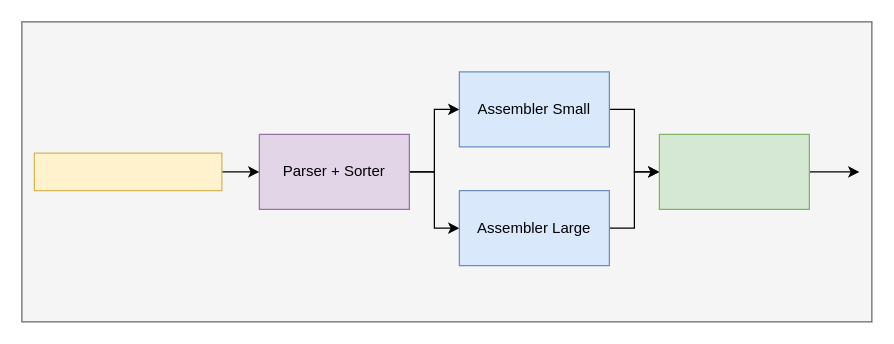
The diagram is 894 pixels wide and 344 high, and some of its shapes have lost their labels. Each missing label, with the box of its shape:
Collectior: (658, 133, 809, 209)
Flower Stream: (33, 152, 222, 191)
